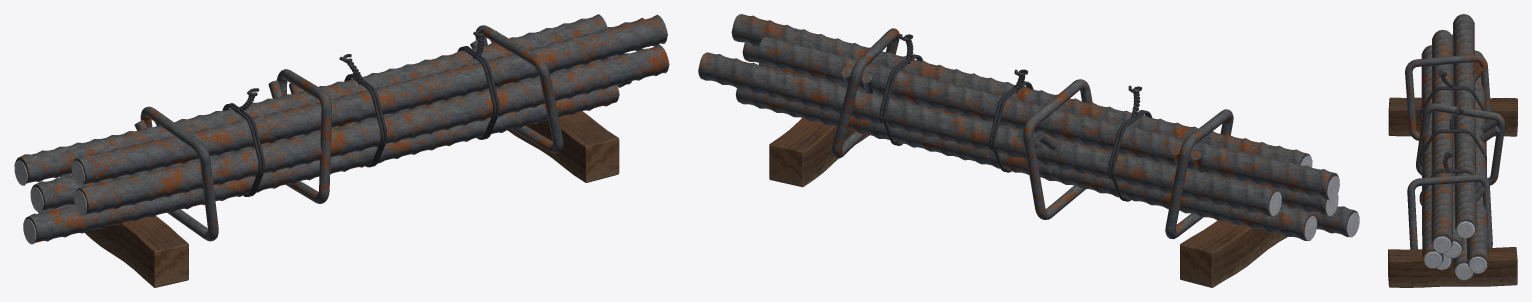
The model's file is thep.glb.
3 views of the same model, side by side, from view 1: azimuth 30°, elevation 25°; view 2: azimuth 150°, elevation 25°; view 3: azimuth 270°, elevation 25° (orthographic). The views are drawn at different scales.
Visible parts, largest first — view 1: Bar_5, Bar_7, Bar_2, Bar_6, Chock_1, Chock_2, Stirrup_1, Stirrup_2, Stirrup_3, Bar_4, Tie_2, Tie_3 (+1 smaller); view 2: Bar_3, Bar_6, Bar_1, Bar_7, Chock_1, Chock_2, Stirrup_2, Stirrup_1, Stirrup_3, Bar_4, Bar_2, Tie_1 (+2 smaller); view 3: Bar_6, Bar_7, Chock_2, Bar_3, Bar_5, Stirrup_2, Chock_1, Stirrup_1, Stirrup_3, Tie_2, Bar_4, Tie_1 (+3 smaller).
Boxes of the visible parts, box(x1,y1,x2,y2) form: Bar_5: box(74, 44, 669, 215); Bar_7: box(71, 14, 667, 185); Bar_2: box(23, 85, 619, 244); Bar_6: box(14, 14, 607, 185); Chock_1: box(84, 216, 188, 287); Chock_2: box(507, 111, 619, 182); Stirrup_1: box(134, 106, 218, 241); Stirrup_2: box(268, 69, 331, 203); Stirrup_3: box(470, 25, 563, 153); Bar_4: box(30, 55, 618, 212); Tie_2: box(339, 54, 387, 167); Tie_3: box(457, 29, 499, 139); Bar_3: box(698, 52, 1281, 216); Bar_6: box(757, 37, 1339, 200); Bar_1: box(735, 88, 1317, 240); Bar_7: box(731, 14, 1312, 167); Chock_1: box(1180, 220, 1287, 287); Chock_2: box(769, 118, 869, 187); Stirrup_2: box(1017, 79, 1092, 219); Stirrup_1: box(1165, 109, 1233, 239); Stirrup_3: box(831, 28, 899, 158); Bar_4: box(758, 62, 1338, 216); Bar_2: box(1281, 204, 1359, 237); Tie_1: box(1108, 85, 1152, 201); Bar_6: box(1453, 14, 1476, 238); Bar_7: box(1431, 30, 1453, 253); Chock_2: box(1388, 247, 1517, 287); Bar_3: box(1466, 50, 1488, 273); Bar_5: box(1421, 45, 1443, 268); Stirrup_2: box(1416, 103, 1505, 185); Chock_1: box(1388, 97, 1517, 136); Stirrup_1: box(1405, 54, 1491, 140); Stirrup_3: box(1407, 174, 1492, 249); Tie_2: box(1419, 107, 1486, 165); Bar_4: box(1444, 34, 1463, 258); Tie_1: box(1419, 70, 1486, 122).
Size of the model in its own units: 3.3 by 0.682 by 0.8.
4 materials, 4 textured.
